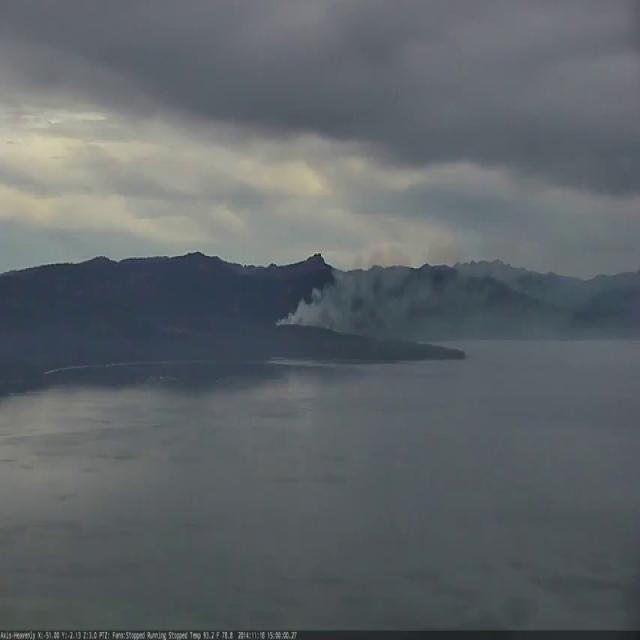smoke: (274, 239, 639, 345)
